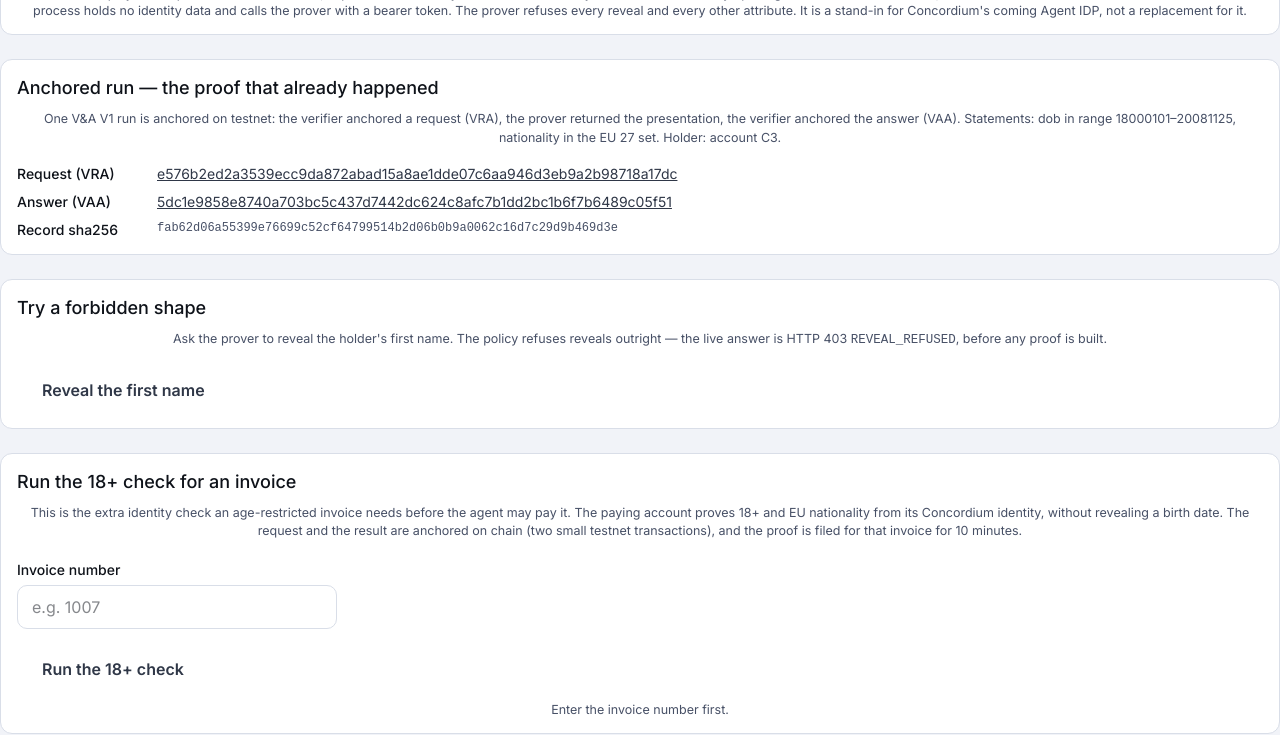
Test: AgeProofPage › shows the 403 REVEAL_REFUSED when trying a forbidden shape
The image size is (1280, 735).
(page scrolled)
Step 1. Click the button "Reveal the first name" → (123, 390), box top-left (17, 366), bottom-right (230, 414)
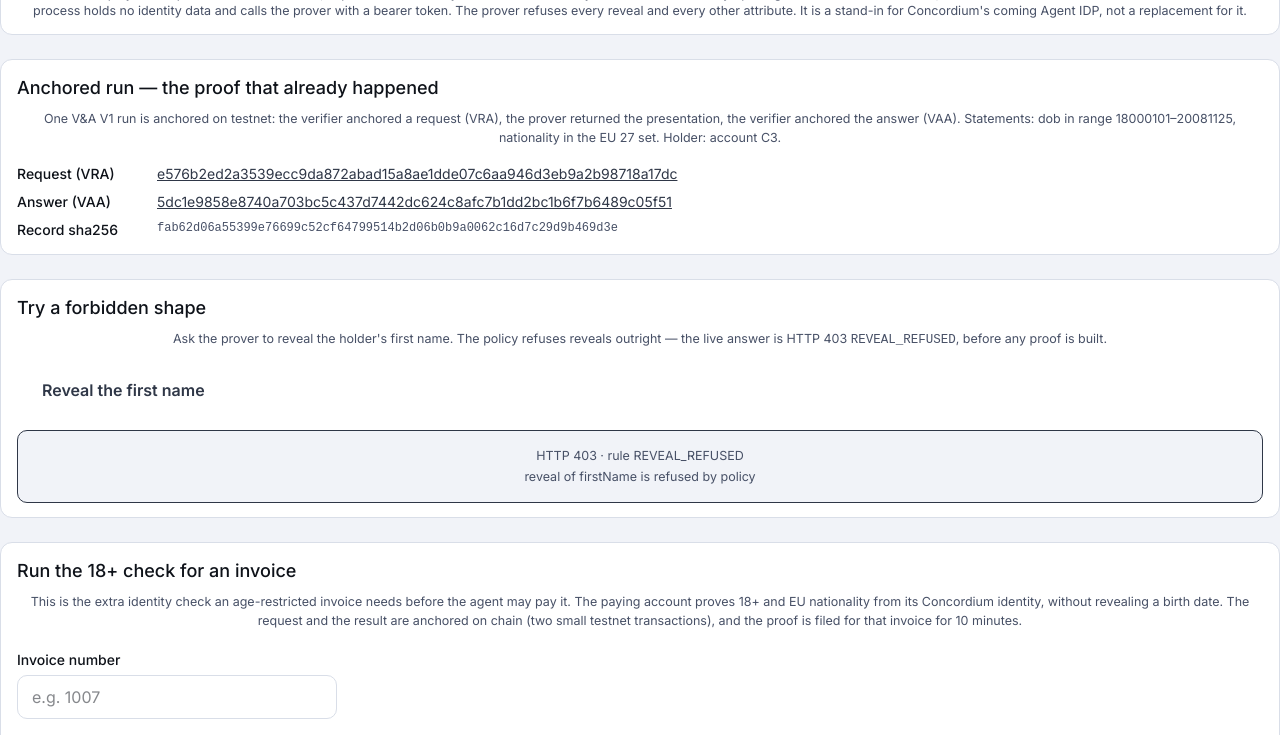
Expected: the text "HTTP 403 · rule REVEAL_REFUSED" is shown, top-left (536, 448), bottom-right (744, 462)
Expected: the text "reveal of firstName is refused by policy" is shown, top-left (524, 469), bottom-right (756, 484)
